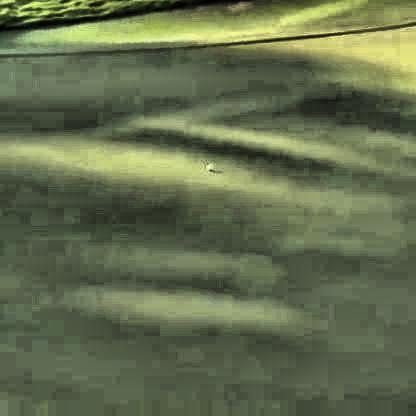golfball: (202, 161, 212, 168)
